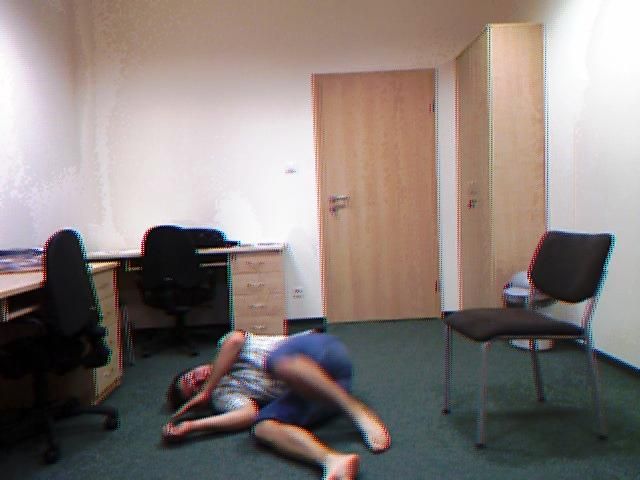fall: (156, 328, 401, 480)
